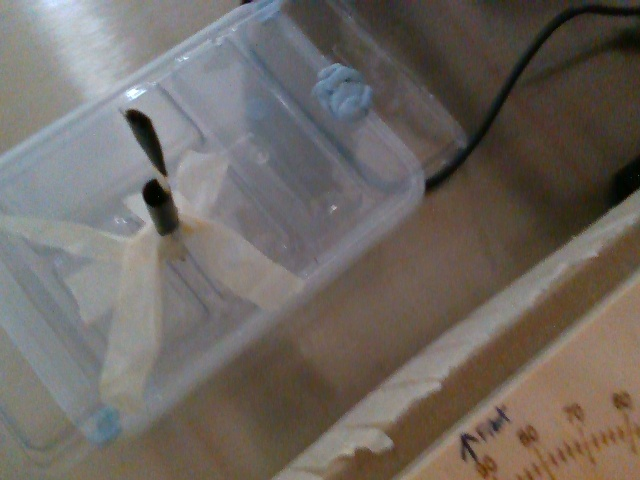test_strip: (118, 108, 171, 192)
